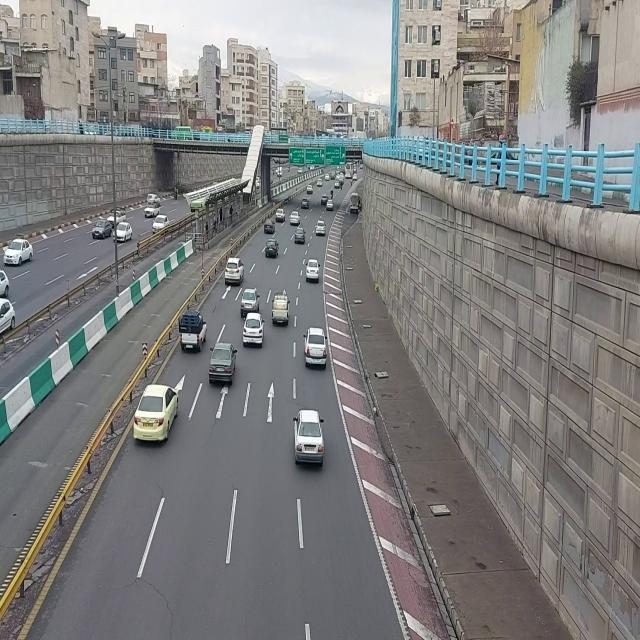Bus: (345, 164, 353, 179)
Car: (134, 382, 180, 444), (293, 409, 325, 469), (208, 340, 239, 388), (304, 327, 328, 371), (3, 240, 34, 268), (242, 312, 266, 348), (0, 296, 18, 336), (224, 257, 245, 288), (240, 286, 261, 312), (92, 219, 114, 241), (113, 220, 134, 242), (305, 256, 321, 282), (152, 212, 170, 234), (265, 238, 280, 260), (263, 216, 277, 236), (295, 227, 307, 247), (274, 207, 287, 223), (290, 210, 302, 226), (316, 221, 327, 237), (301, 196, 310, 212), (326, 198, 334, 212), (306, 185, 314, 196), (321, 194, 329, 204), (317, 177, 323, 187), (334, 180, 340, 190), (324, 173, 330, 181), (352, 173, 358, 181)
Motorcycle: (173, 186, 179, 202), (331, 187, 334, 199), (340, 181, 343, 191), (350, 177, 353, 187)
Pickup: (178, 308, 208, 353), (272, 293, 291, 327), (144, 193, 161, 221), (107, 204, 127, 224)
